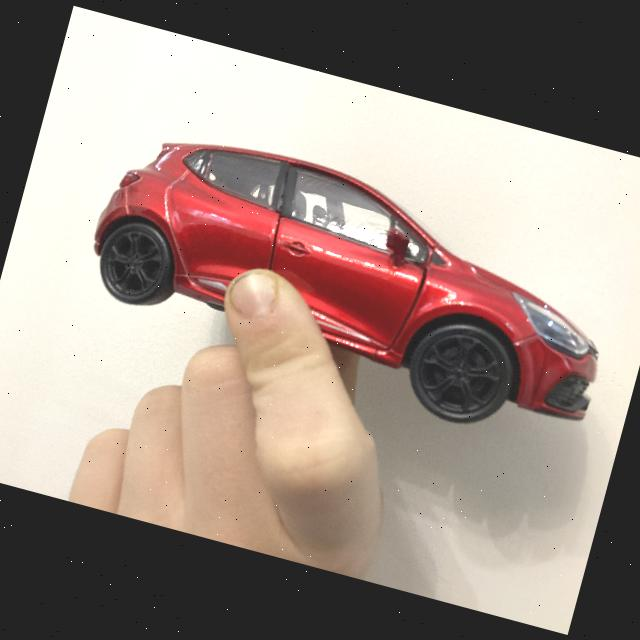Dogru_Jant: (412, 324, 509, 418), (97, 224, 170, 302)
